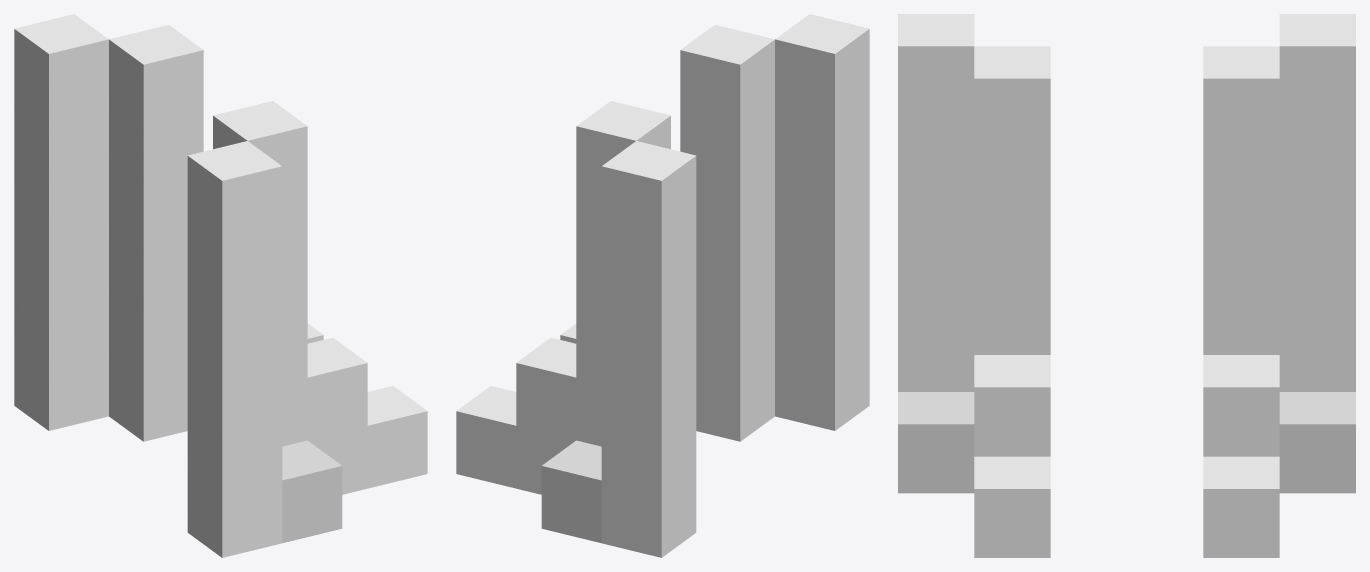
Rendered from skeleton_feet.gltf.
3 views of the same model, side by side, from view 1: azimuth 30°, elevation 25°; view 2: azimuth 150°, elevation 25°; view 3: azimuth 270°, elevation 25° (orthographic). The views are drawn at different scales.
Parts seen in each view (by area): view 1: Layer.1; view 2: Layer.1; view 3: Layer.1.
Part boxes in pixels (x1,y1,x2,y2): Layer.1: (14, 14, 427, 557); Layer.1: (456, 14, 869, 557); Layer.1: (898, 14, 1355, 557).
Size of the model in its own units: 4 by 6 by 6.
Materials: 1 (1 with a texture image).
